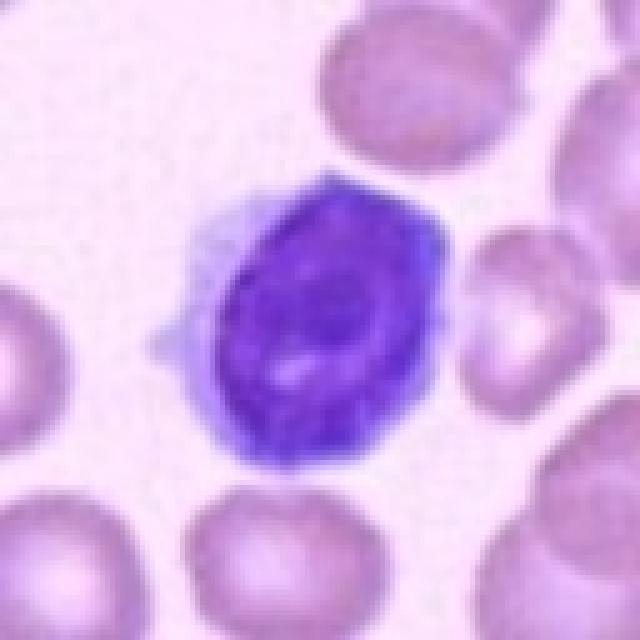lympho: (155, 148, 453, 488)
